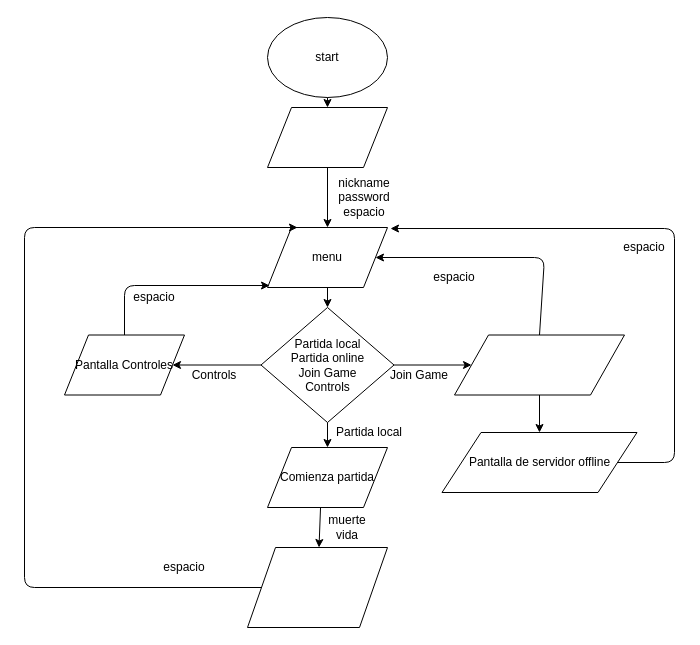
Some shapes in this 700 by 645 pixel diagram are drawn without their labels. The shapes that lost their labels are listed below. From the top down, each one's box as (x1, y1, x2, y2) in pixels, then its label:
(266, 106, 388, 168): main
(454, 334, 624, 395): Pantalla de espera de jugadores
(246, 546, 388, 628): pantalla ranking
